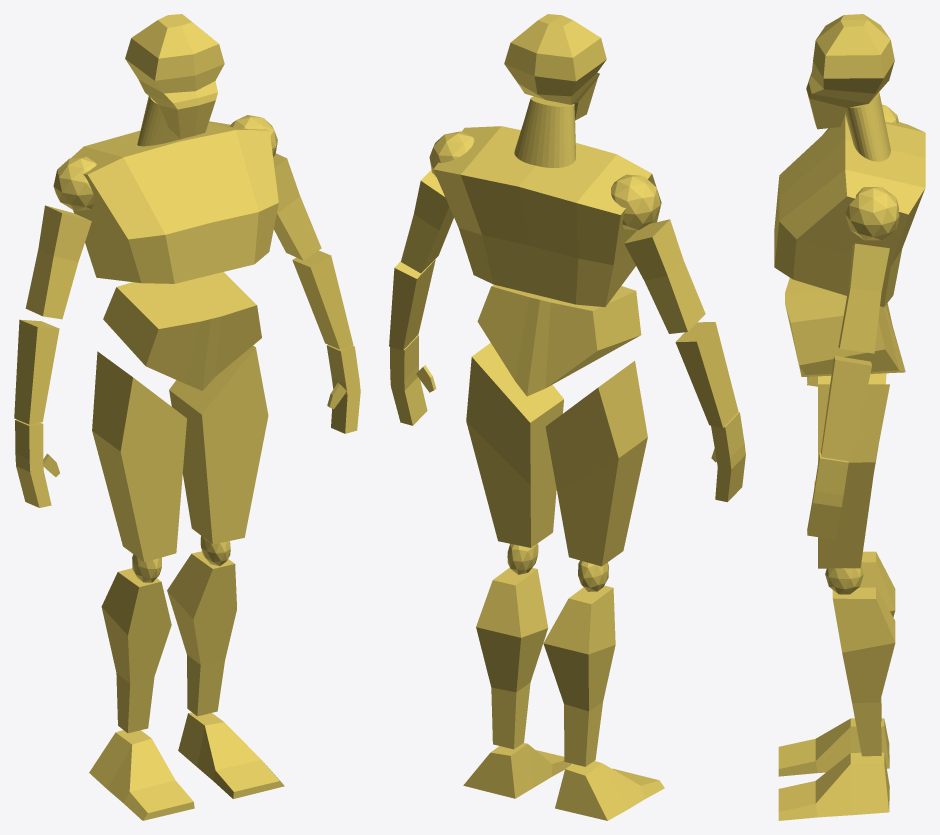
Rendered from block-person.gltf.
3 renders of one model, left to right at view 1: azimuth 30°, elevation 25°; view 2: azimuth 150°, elevation 25°; view 3: azimuth 270°, elevation 25°, orthographic. The views are drawn at different scales.
Visible parts, largest first — view 1: Thigh - Left, Torso, Calve - Left, Pelvis, Foot - Left, Head, Arm - Left, Forearm - Left, Hand - Left, Shoulder - Left, Knee - Left, Neck; view 2: Thigh - Left, Torso, Calve - Left, Pelvis, Arm - Left, Foot - Left, Head, Forearm - Left, Hand - Left, Neck, Shoulder - Left, Knee - Left; view 3: Torso, Foot - Left, Calve - Left, Head, Thigh - Left, Pelvis, Arm - Left, Forearm - Left, Hand - Left, Shoulder - Left, Neck, Knee - Left.
Part boxes in pixels (left/top/right/bottom): Thigh - Left: left=92, top=345, right=268, bottom=562; Torso: left=71, top=121, right=278, bottom=283; Calve - Left: left=101, top=551, right=236, bottom=733; Pelvis: left=103, top=272, right=261, bottom=390; Foot - Left: left=89, top=712, right=284, bottom=820; Head: left=125, top=14, right=224, bottom=138; Arm - Left: left=25, top=153, right=321, bottom=319; Forearm - Left: left=14, top=250, right=353, bottom=424; Hand - Left: left=15, top=345, right=360, bottom=507; Shoulder - Left: left=53, top=115, right=277, bottom=210; Knee - Left: left=132, top=536, right=230, bottom=582; Neck: left=137, top=96, right=185, bottom=146; Thigh - Left: left=466, top=343, right=647, bottom=566; Torso: left=433, top=126, right=661, bottom=307; Calve - Left: left=476, top=567, right=615, bottom=766; Pelvis: left=477, top=285, right=641, bottom=396; Arm - Left: left=401, top=170, right=705, bottom=333; Foot - Left: left=463, top=743, right=664, bottom=820; Head: left=504, top=14, right=606, bottom=120; Forearm - Left: left=389, top=259, right=738, bottom=427; Hand - Left: left=390, top=335, right=745, bottom=502; Neck: left=514, top=96, right=575, bottom=167; Shoulder - Left: left=429, top=131, right=660, bottom=230; Knee - Left: left=507, top=543, right=608, bottom=591; Torso: left=774, top=114, right=925, bottom=307; Foot - Left: left=778, top=718, right=889, bottom=820; Calve - Left: left=832, top=551, right=895, bottom=756; Head: left=806, top=14, right=894, bottom=129; Thigh - Left: left=818, top=373, right=889, bottom=568; Pelvis: left=785, top=278, right=905, bottom=376; Arm - Left: left=838, top=243, right=889, bottom=353; Forearm - Left: left=821, top=355, right=871, bottom=461; Hand - Left: left=807, top=376, right=848, bottom=539; Shoulder - Left: left=845, top=104, right=899, bottom=240; Neck: left=845, top=92, right=890, bottom=161; Knee - Left: left=825, top=565, right=863, bottom=594.
Size of the model in its own units: 1.74 by 3.82 by 0.6825.
